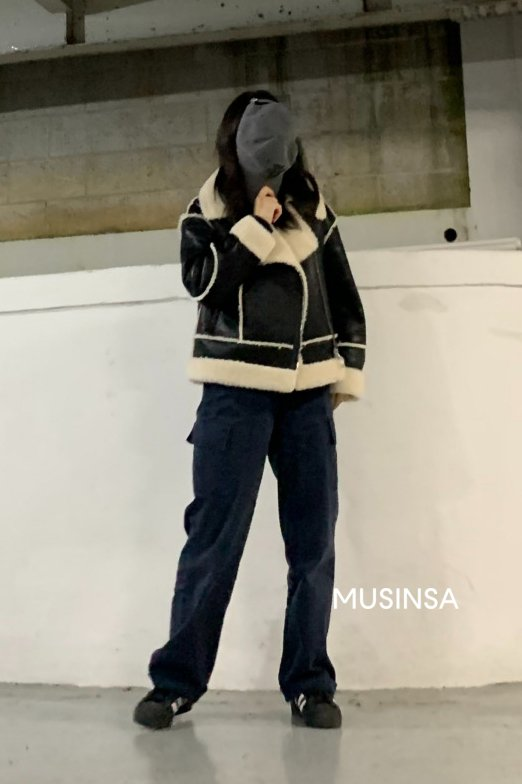Cap: (236, 97, 299, 194)
Jacket: (172, 169, 370, 403)
Pants: (148, 374, 349, 698)
Shoes: (127, 683, 346, 734)
